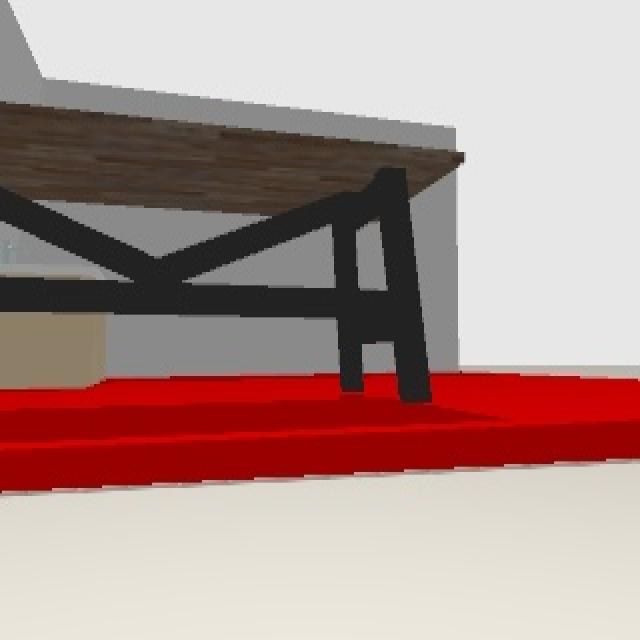dining: (1, 99, 466, 407)
